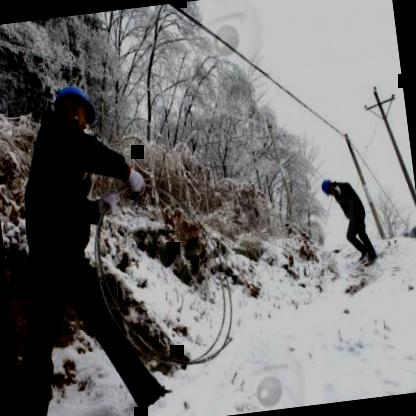helmet: (46, 75, 101, 138), (318, 174, 338, 198)
